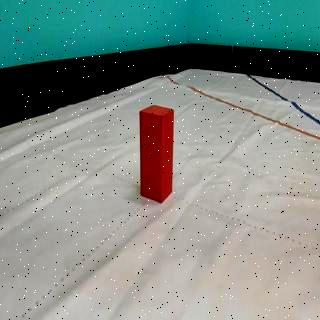redbox: (138, 105, 174, 203)
